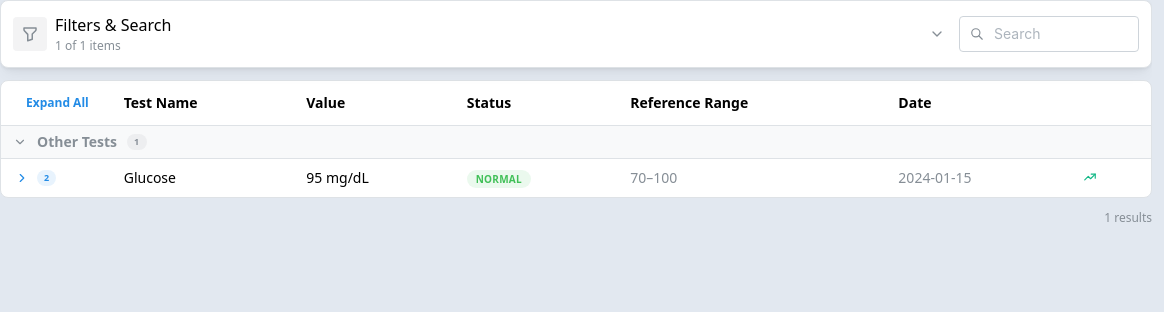
Test case: LabResultsComponentTable › expands to show all readings (including latest) on expand button click
The image size is (1164, 312).
Click the button with test id "expand-btn-glucose". click: (22, 178)
box: top-left (11, 167), bottom-right (33, 189)
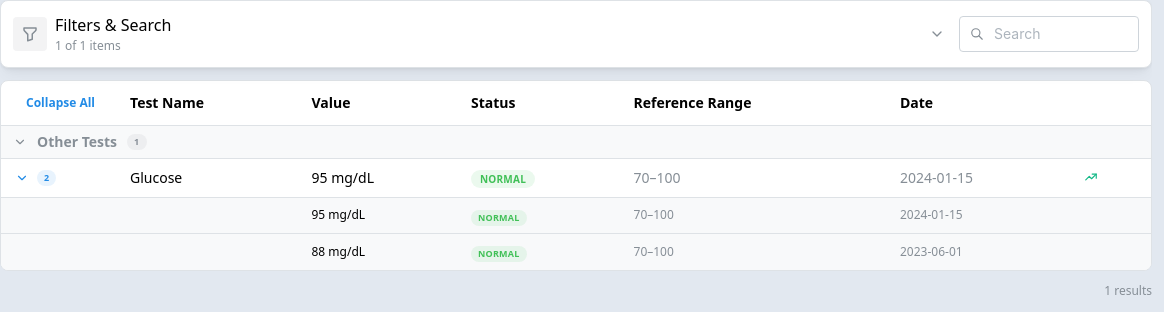
Expected: the row with test id "history-row-1" is shown, top-left (1, 197), bottom-right (1151, 234)
Expected: the row with test id "history-row-2" is shown, top-left (1, 234), bottom-right (1151, 270)
